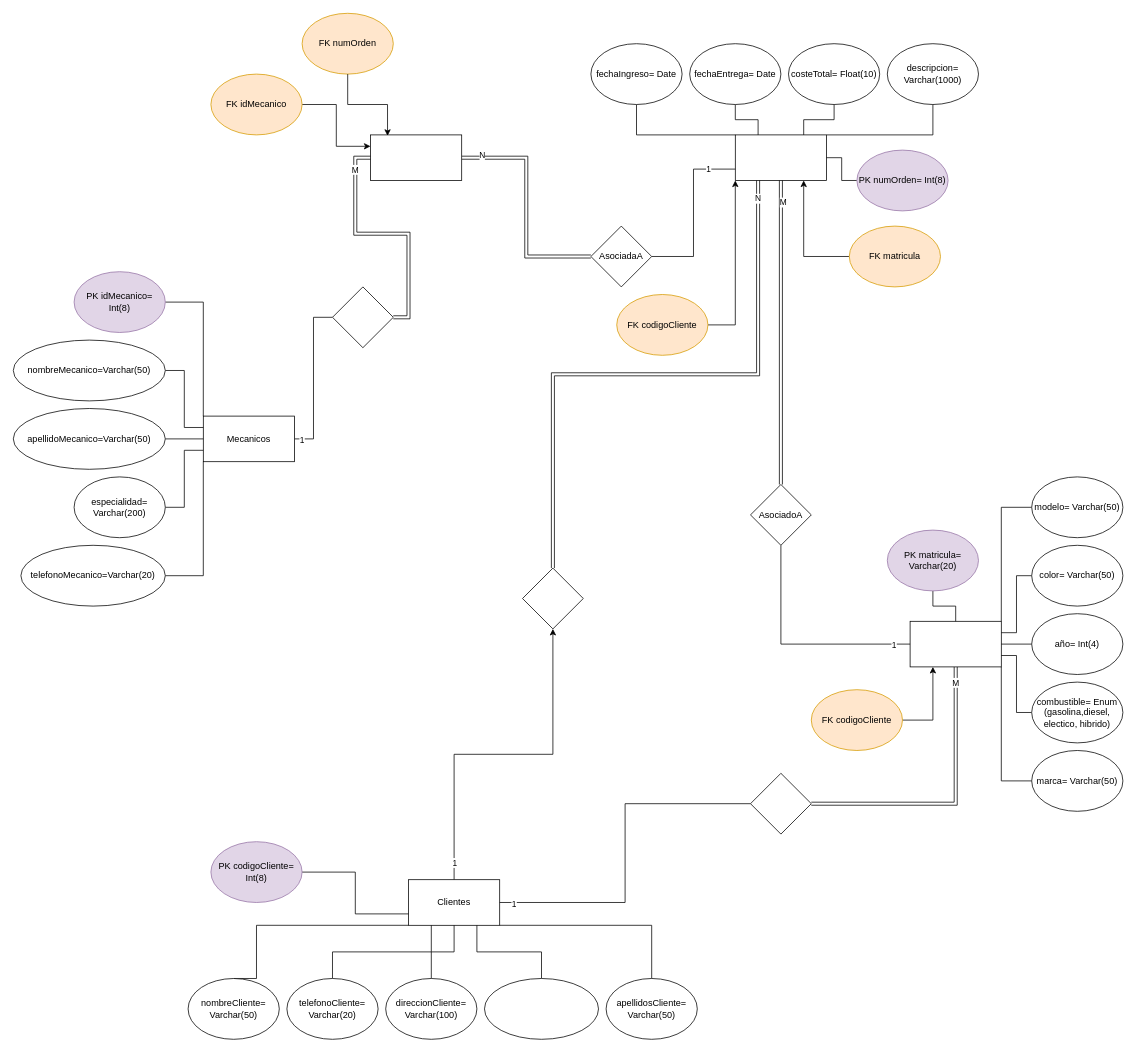
Image size: 1136x1053. Some labels were removed from this diagram. The shapes that lost their labels are listed below. From the top down, each one's box as (x1, y1, x2, y2) in pixels, then its label:
(370, 134, 462, 180): Tarea
(735, 134, 826, 180): Reparaciones
(332, 286, 393, 348): TrabajaEn
(522, 567, 583, 629): Contrata
(909, 621, 1001, 667): Vehiculos
(750, 773, 811, 834): PerteneceA
(484, 978, 598, 1039): correoElectrónicoCliente= Varchar(50)
